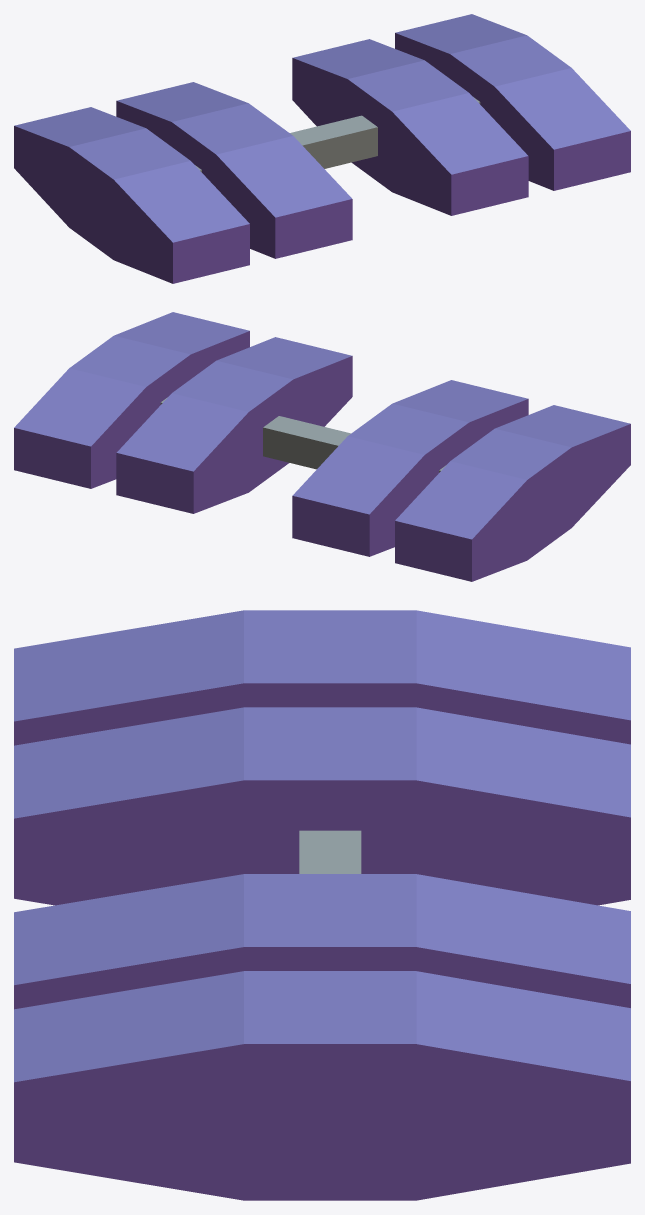
Rendered from station.gltf.
The picture shows the model from 3 angles, top to bottom: view 1: azimuth 30°, elevation 25°; view 2: azimuth 150°, elevation 25°; view 3: azimuth 270°, elevation 25°; orthographic projection. The views are drawn at different scales.
Visible parts, largest first — view 1: Station; view 2: Station; view 3: Station.
Boxes of the visible parts, x1,y1,x2,y2 form: Station: [14, 14, 630, 283]; Station: [14, 312, 630, 581]; Station: [14, 610, 630, 1200].
Size of the model in its own units: 30.25 by 5.09 by 18.19.
1 material, 1 textured.
